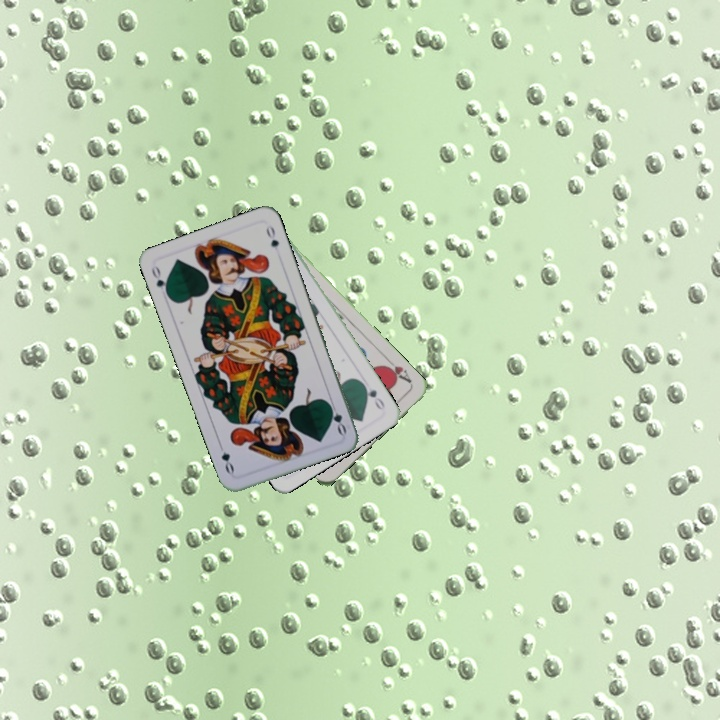GO: (324, 397, 349, 437), (358, 379, 388, 412), (147, 262, 171, 300)
HA: (379, 354, 414, 386)
